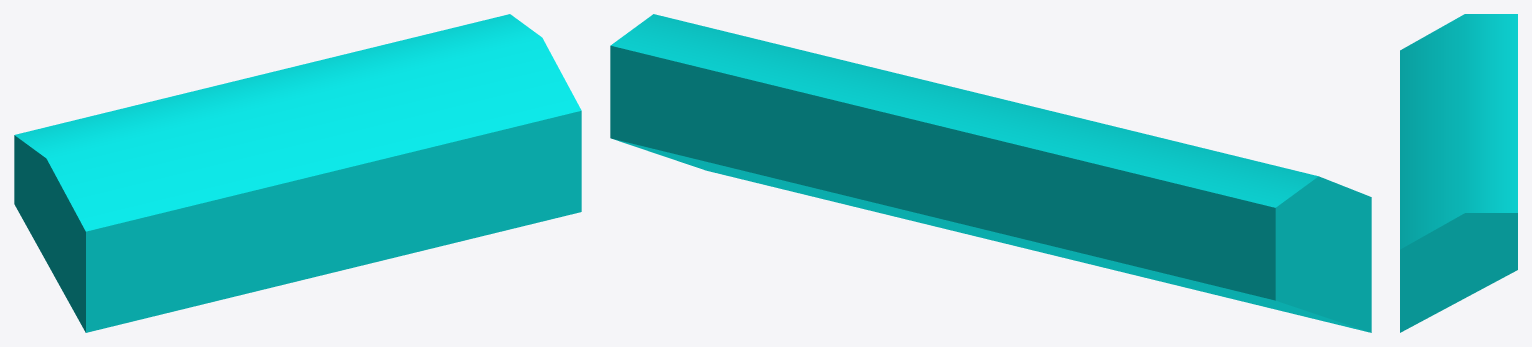
The model's file is SM_Bld_Stairs_Quarter_01_Collision.fbx.
3 views of the same model, side by side, from view 1: azimuth 30°, elevation 25°; view 2: azimuth 150°, elevation 25°; view 3: azimuth 270°, elevation 25° (orthographic). The views are drawn at different scales.
Visible parts, largest first — view 1: SM_Bld_Stairs_Quarter_01_Collision; view 2: SM_Bld_Stairs_Quarter_01_Collision; view 3: SM_Bld_Stairs_Quarter_01_Collision.
Part boxes in pixels (x1,y1,x2,y2): SM_Bld_Stairs_Quarter_01_Collision: (14, 14, 581, 332); SM_Bld_Stairs_Quarter_01_Collision: (610, 14, 1371, 332); SM_Bld_Stairs_Quarter_01_Collision: (1400, 14, 1517, 332).
Size of the model in its own units: 250 by 70.16 by 62.5.
